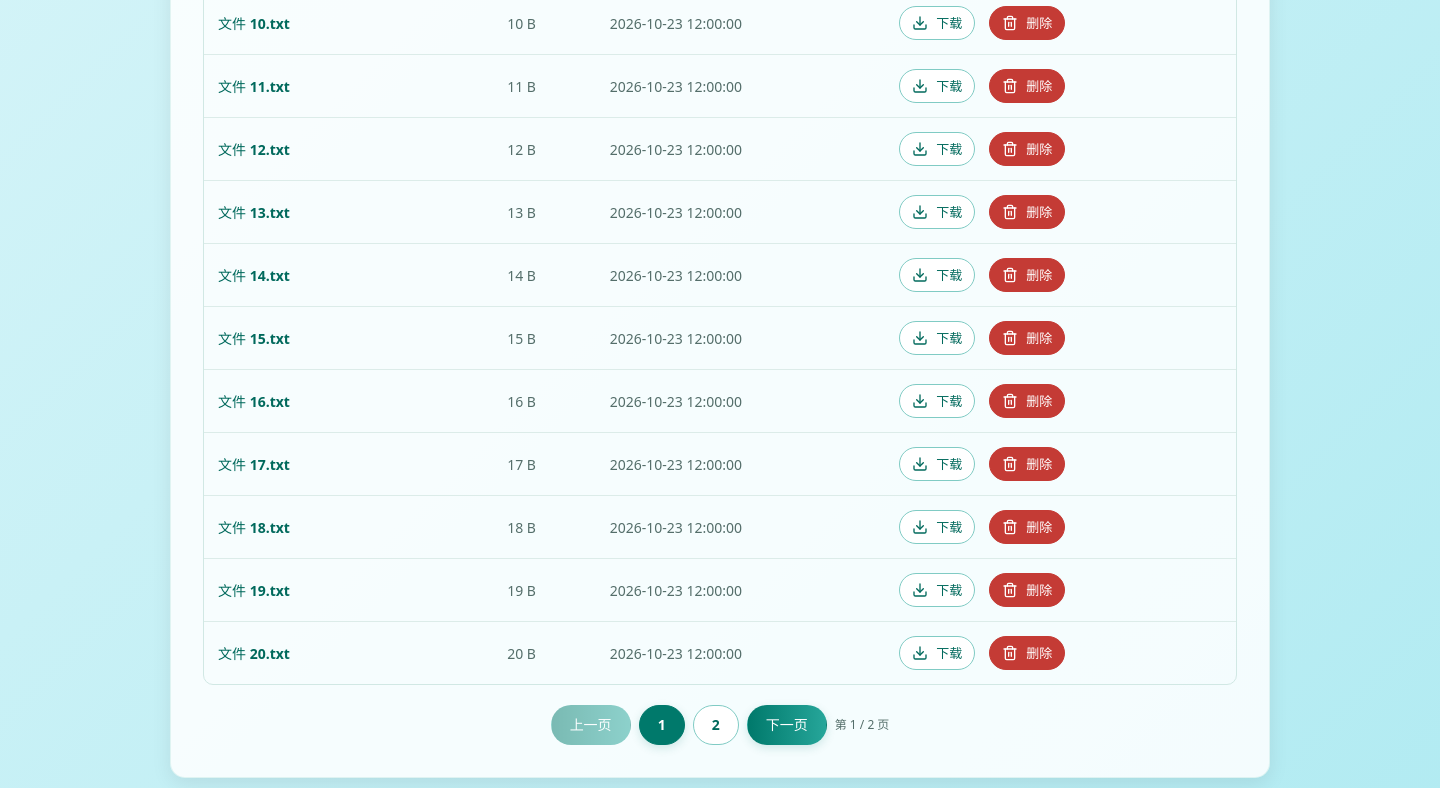
Test: keeps all files available after pagination, searching, and sorting
(page scrolled)
expect the text "文件 21.txt" is not shown: met
Click the button "下一页" at [787, 725], box [747,705,827,745]
(page scrolled)
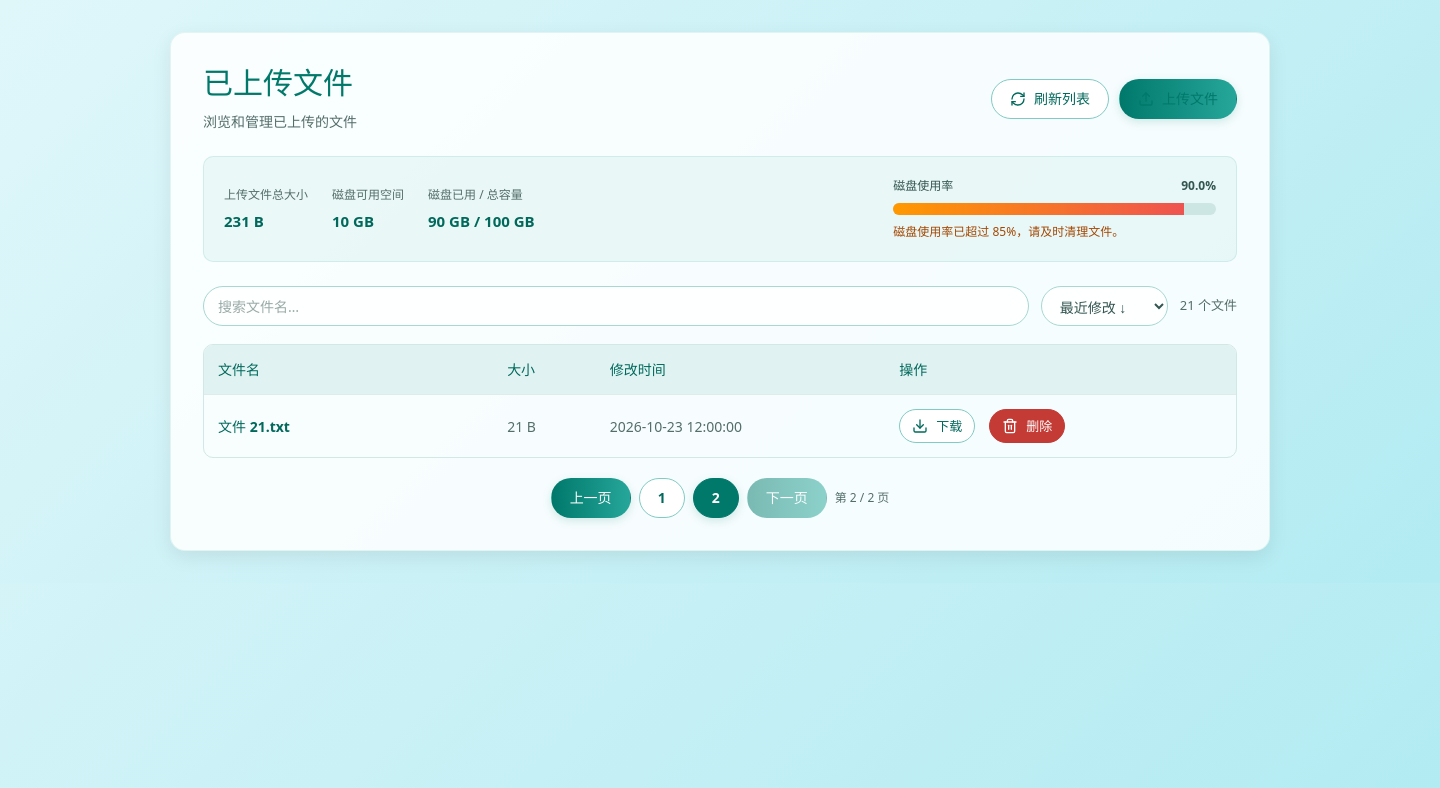
expect the text "文件 21.txt" is shown: met, box [204,394,493,457]
Type "01" into the search field at [616, 306], box [203,286,1029,326]
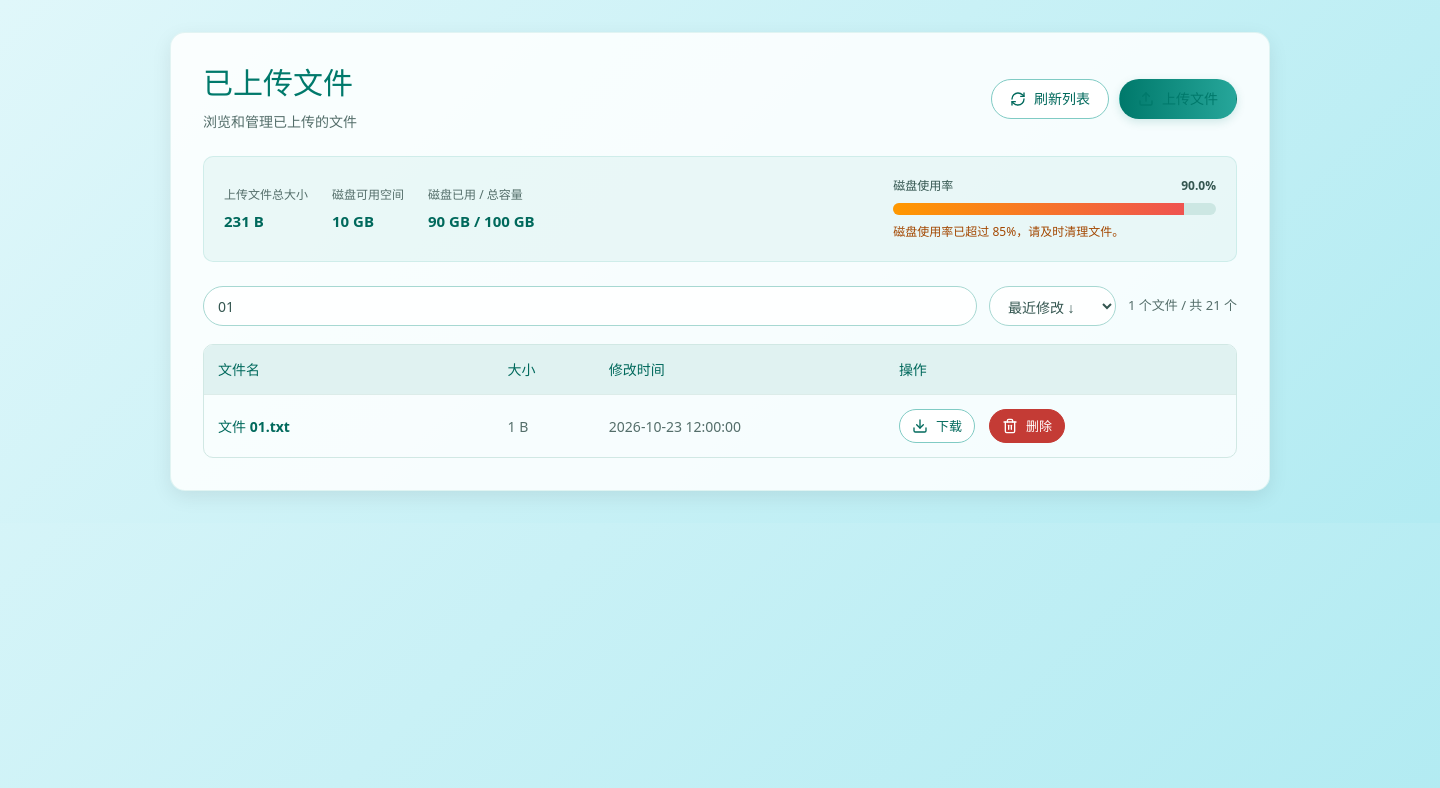
expect the text "文件 01.txt" is shown: met, box [204,394,494,457]
Clear the search field at [590, 306], box [203,286,977,326]
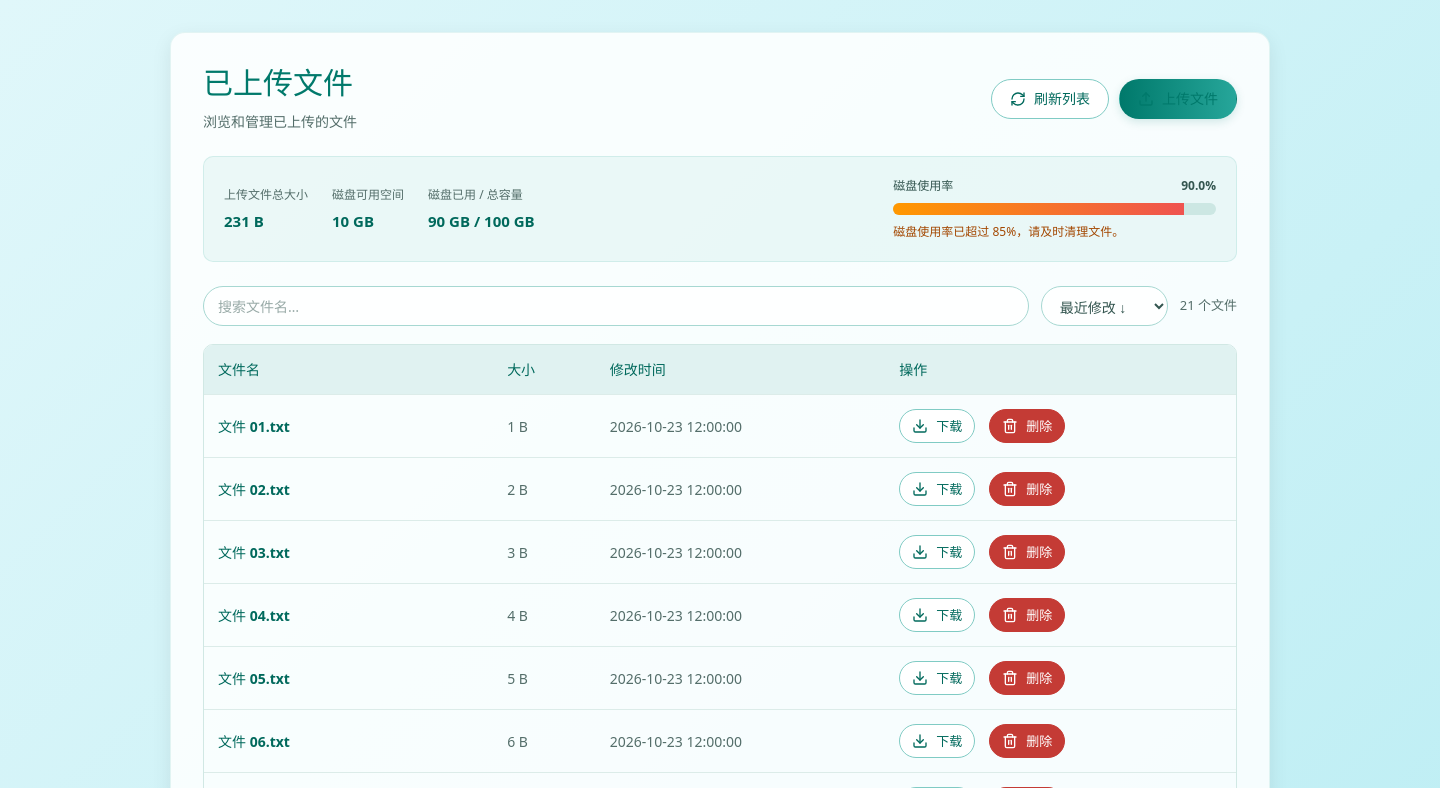
Select "文件大小 ↓" in the dropdown at [1104, 306], box [1041,286,1168,326]
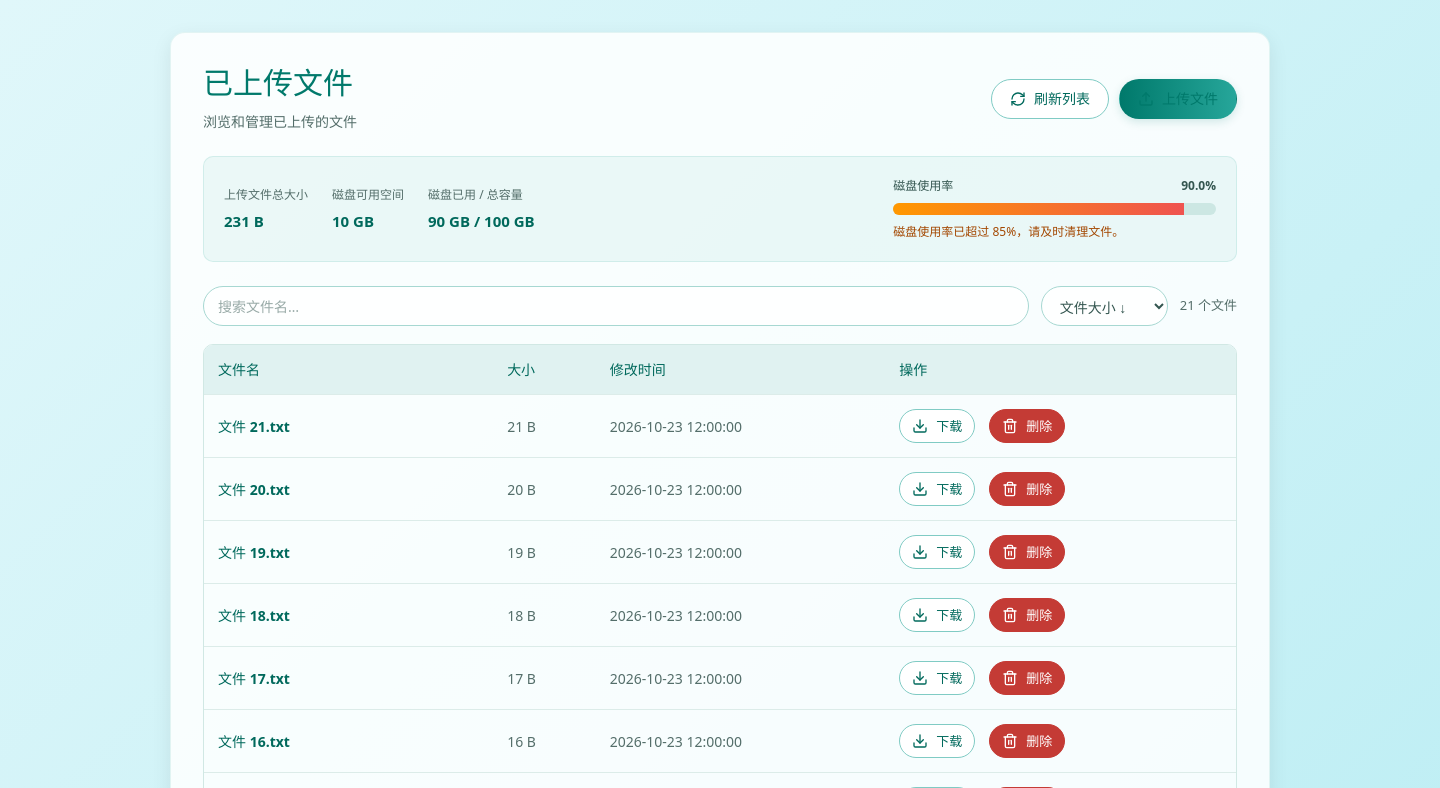
expect the row "文件 21.txt 21 B 2026-10-23 12:00:00 下载 删除" is shown: met, box [204,394,1236,458]
